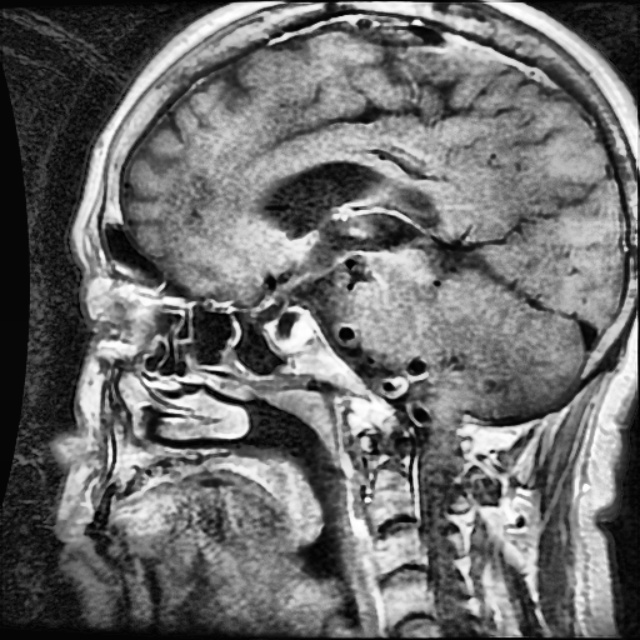Pituitary: (263, 304, 313, 355)
